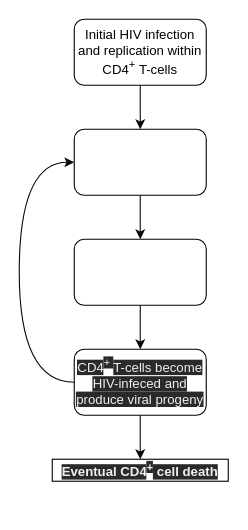
Some shapes in this 248 by 530 pixel diagram are drawn without their labels. The box of each missing label's shape, as (x1, y1, x2, y2) in pixels:
Clonal expansion of CD4 + T-cells: (73, 238, 206, 305)
Immunogenic inflammatory cascade: (73, 128, 206, 195)
